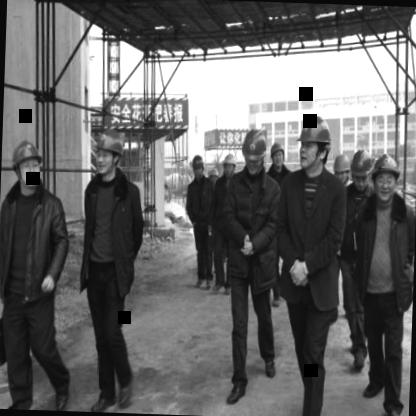helmet: (296, 113, 334, 173), (9, 136, 47, 192), (92, 124, 126, 178), (372, 150, 401, 200), (241, 127, 269, 174), (352, 146, 376, 196), (330, 151, 354, 190), (220, 148, 239, 181), (270, 140, 288, 173), (190, 152, 204, 181), (206, 166, 220, 190)
